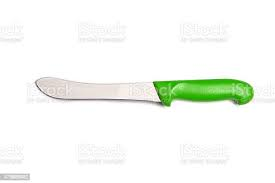knife: (34, 73, 256, 110)
